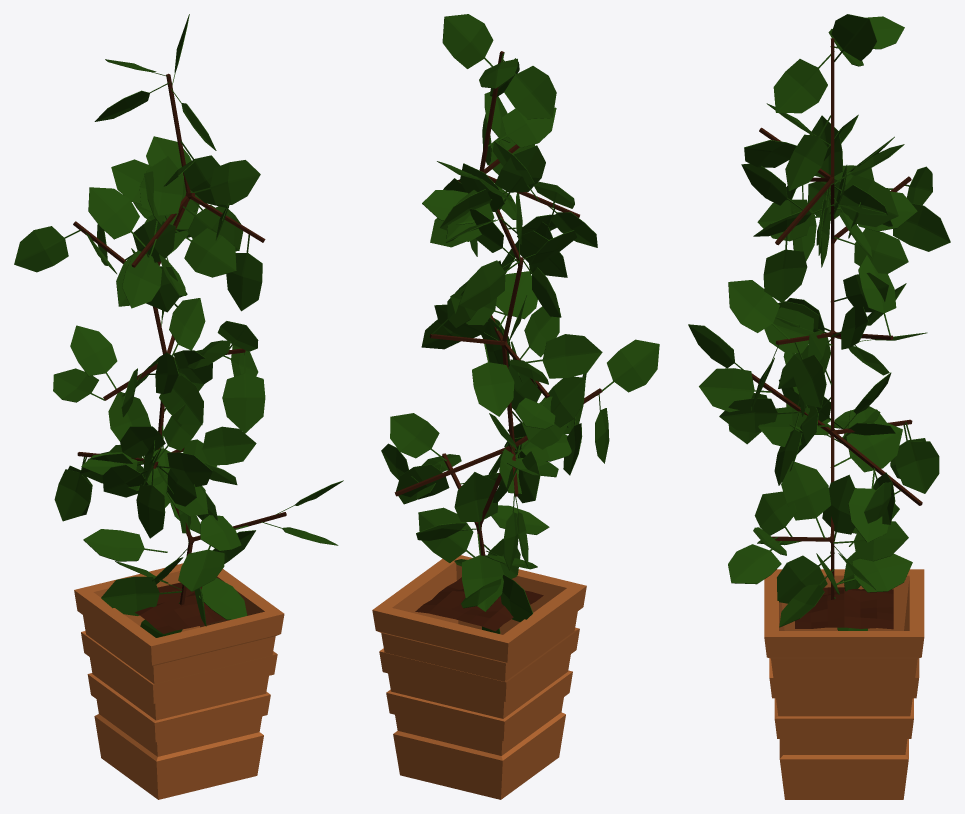
Rendered from maceta.obj.
3 renders of one model, left to right at view 1: azimuth 30°, elevation 25°; view 2: azimuth 150°, elevation 25°; view 3: azimuth 270°, elevation 25°, orthographic. The views are drawn at different scales.
Visible parts, largest first — view 1: leafFBXASC046086, Cube, CubeFBXASC046001; view 2: leafFBXASC046086, Cube, CubeFBXASC046001; view 3: leafFBXASC046086, Cube, CubeFBXASC046001.
Part boxes in pixels (x1,y1,x2,y2): leafFBXASC046086: (14,14,343,637); Cube: (74,563,284,799); CubeFBXASC046001: (135,582,224,633); leafFBXASC046086: (381,14,659,633); Cube: (372,555,586,799); CubeFBXASC046001: (415,577,543,631); leafFBXASC046086: (688,14,950,630); Cube: (764,569,924,799); CubeFBXASC046001: (795,587,893,629).
Bounding box in the file's own units: 16.82 × 47.7 × 14.81.
